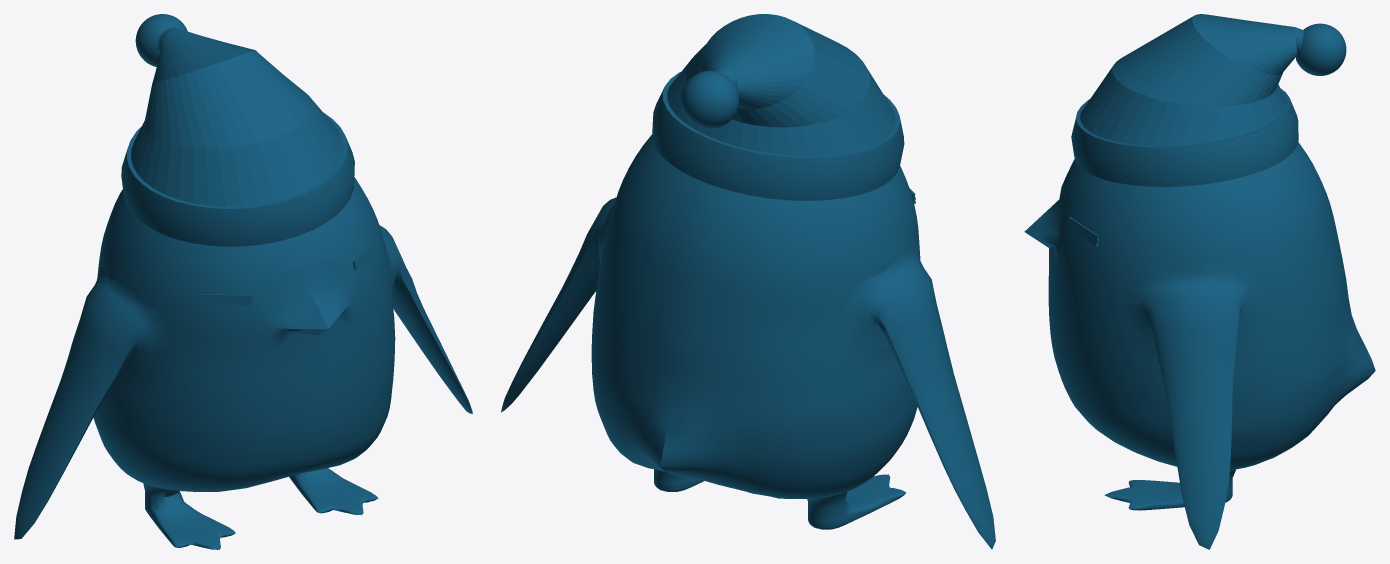
File: penguin_blue_idle_15f.fbx
3 views of the same model, side by side, from view 1: azimuth 30°, elevation 25°; view 2: azimuth 150°, elevation 25°; view 3: azimuth 270°, elevation 25° (orthographic). The views are drawn at different scales.
Parts seen in each view (by area): view 1: ppp_15, bousi, ai; view 2: ppp_15, bousi; view 3: ppp_15, bousi.
Part boxes in pixels (x1,y1,x2,y2): ppp_15: [14, 177, 472, 549]; bousi: [121, 14, 354, 246]; ai: [200, 241, 380, 305]; ppp_15: [501, 134, 995, 549]; bousi: [652, 14, 904, 200]; ppp_15: [1024, 142, 1375, 549]; bousi: [1071, 14, 1346, 186].
Size of the model in its own units: 21.38 by 20.1 by 14.7.
1 material, 1 textured.
